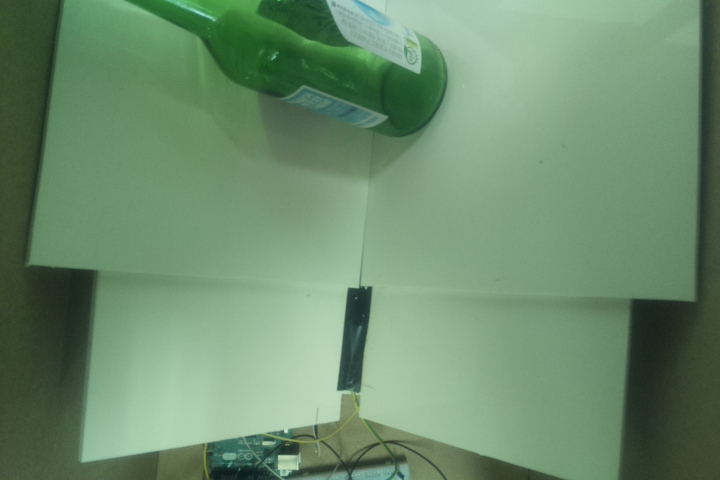soju: (115, 1, 452, 138)
